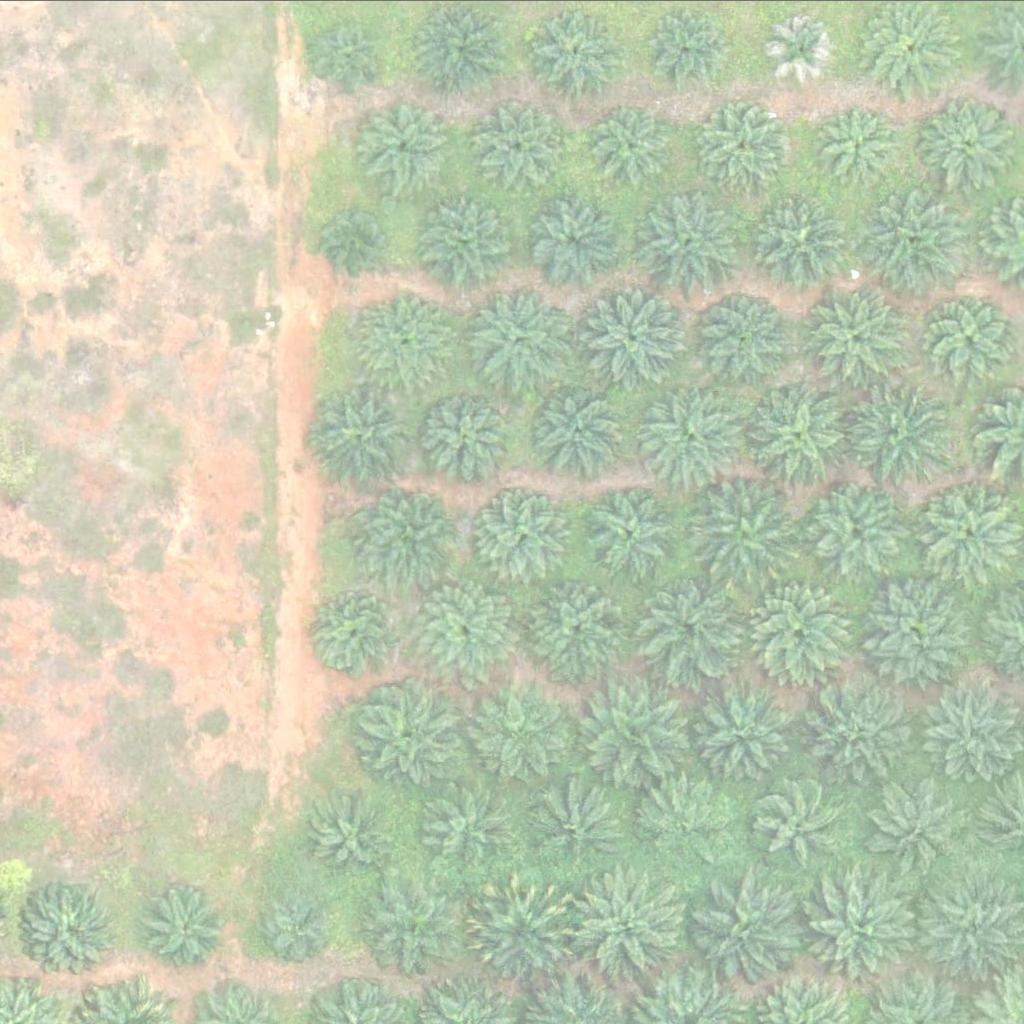Kelapa_Sawit: (410, 571, 524, 684), (522, 567, 636, 680), (686, 470, 800, 583), (743, 378, 857, 491), (842, 370, 956, 483), (466, 873, 579, 986), (570, 869, 683, 982), (687, 874, 800, 987), (809, 870, 922, 983), (633, 183, 746, 296), (636, 381, 750, 493), (858, 184, 972, 296), (580, 670, 693, 782), (688, 672, 801, 784), (637, 568, 750, 680), (861, 569, 974, 681), (307, 377, 420, 489), (577, 277, 690, 389), (363, 878, 464, 978), (812, 676, 913, 776), (748, 578, 849, 678), (362, 481, 463, 581), (805, 476, 906, 576), (421, 380, 522, 480), (527, 378, 628, 478), (359, 287, 460, 387), (465, 285, 566, 385), (417, 191, 518, 291), (525, 188, 626, 288), (749, 190, 850, 290), (355, 94, 456, 194), (920, 483, 1021, 583), (21, 878, 121, 978), (362, 685, 462, 785), (472, 672, 572, 772), (471, 481, 571, 581), (582, 478, 682, 578), (693, 286, 793, 386), (810, 284, 910, 384), (917, 90, 1017, 190), (920, 287, 1020, 387), (479, 98, 568, 186), (145, 885, 233, 973), (307, 790, 395, 878), (537, 779, 625, 867), (422, 4, 510, 92), (535, 7, 623, 95), (427, 775, 515, 862), (641, 776, 729, 863), (755, 781, 843, 868), (871, 780, 959, 867), (310, 590, 398, 677), (593, 102, 681, 189), (703, 99, 791, 186), (820, 105, 896, 180), (653, 11, 728, 86), (767, 9, 842, 84), (318, 22, 381, 85), (320, 205, 383, 268), (265, 897, 328, 960)
